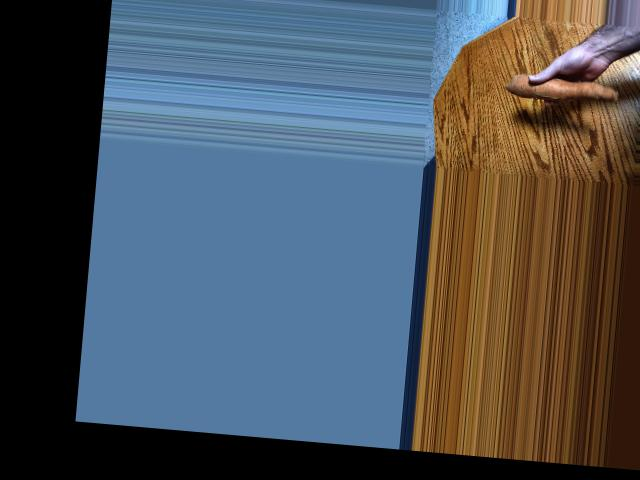sweet_potato: (510, 68, 620, 109)
